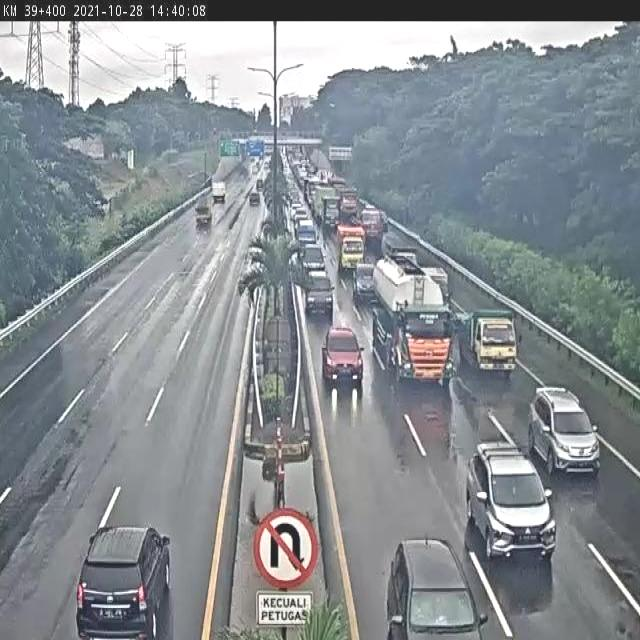Car: (463, 429, 560, 564), (69, 521, 175, 640), (380, 526, 485, 640), (528, 384, 605, 492), (321, 318, 363, 388), (332, 216, 371, 283), (296, 235, 327, 277), (292, 218, 322, 255), (355, 265, 380, 304), (308, 276, 332, 315), (246, 191, 263, 209)
Truck: (373, 255, 463, 388), (459, 288, 526, 378), (208, 172, 229, 208), (196, 195, 214, 233)
